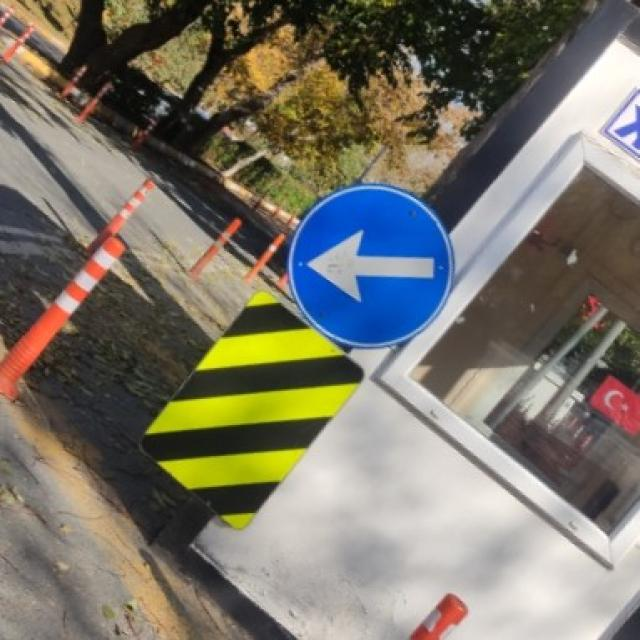Turn Left: (284, 185, 471, 354)
